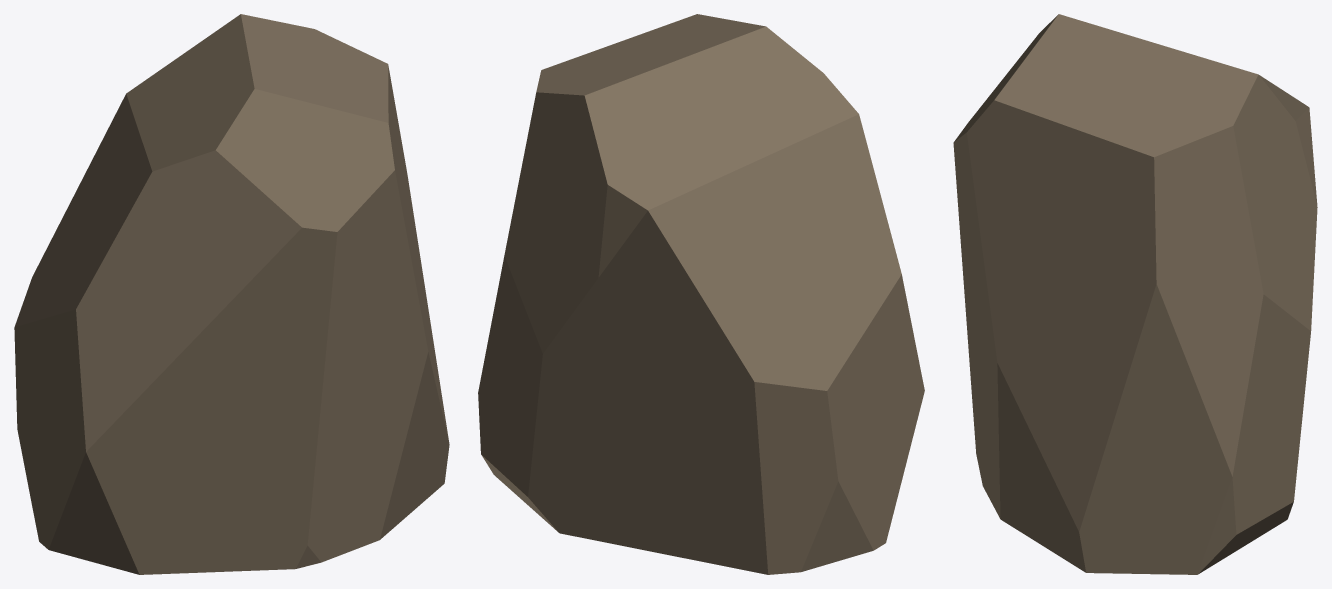
File: Stone_5_brown_mat.fbx
The picture shows the model from 3 angles, left to right: view 1: azimuth 30°, elevation 25°; view 2: azimuth 150°, elevation 25°; view 3: azimuth 270°, elevation 25°; orthographic projection. The views are drawn at different scales.
Visible parts, largest first — view 1: Stone_5_brown_mat; view 2: Stone_5_brown_mat; view 3: Stone_5_brown_mat.
Part boxes in pixels (bbox=[...]): Stone_5_brown_mat: bbox=[14, 14, 449, 574]; Stone_5_brown_mat: bbox=[478, 14, 924, 574]; Stone_5_brown_mat: bbox=[953, 14, 1317, 574].
Size of the model in its own units: 83.72 by 97.75 by 70.29.
